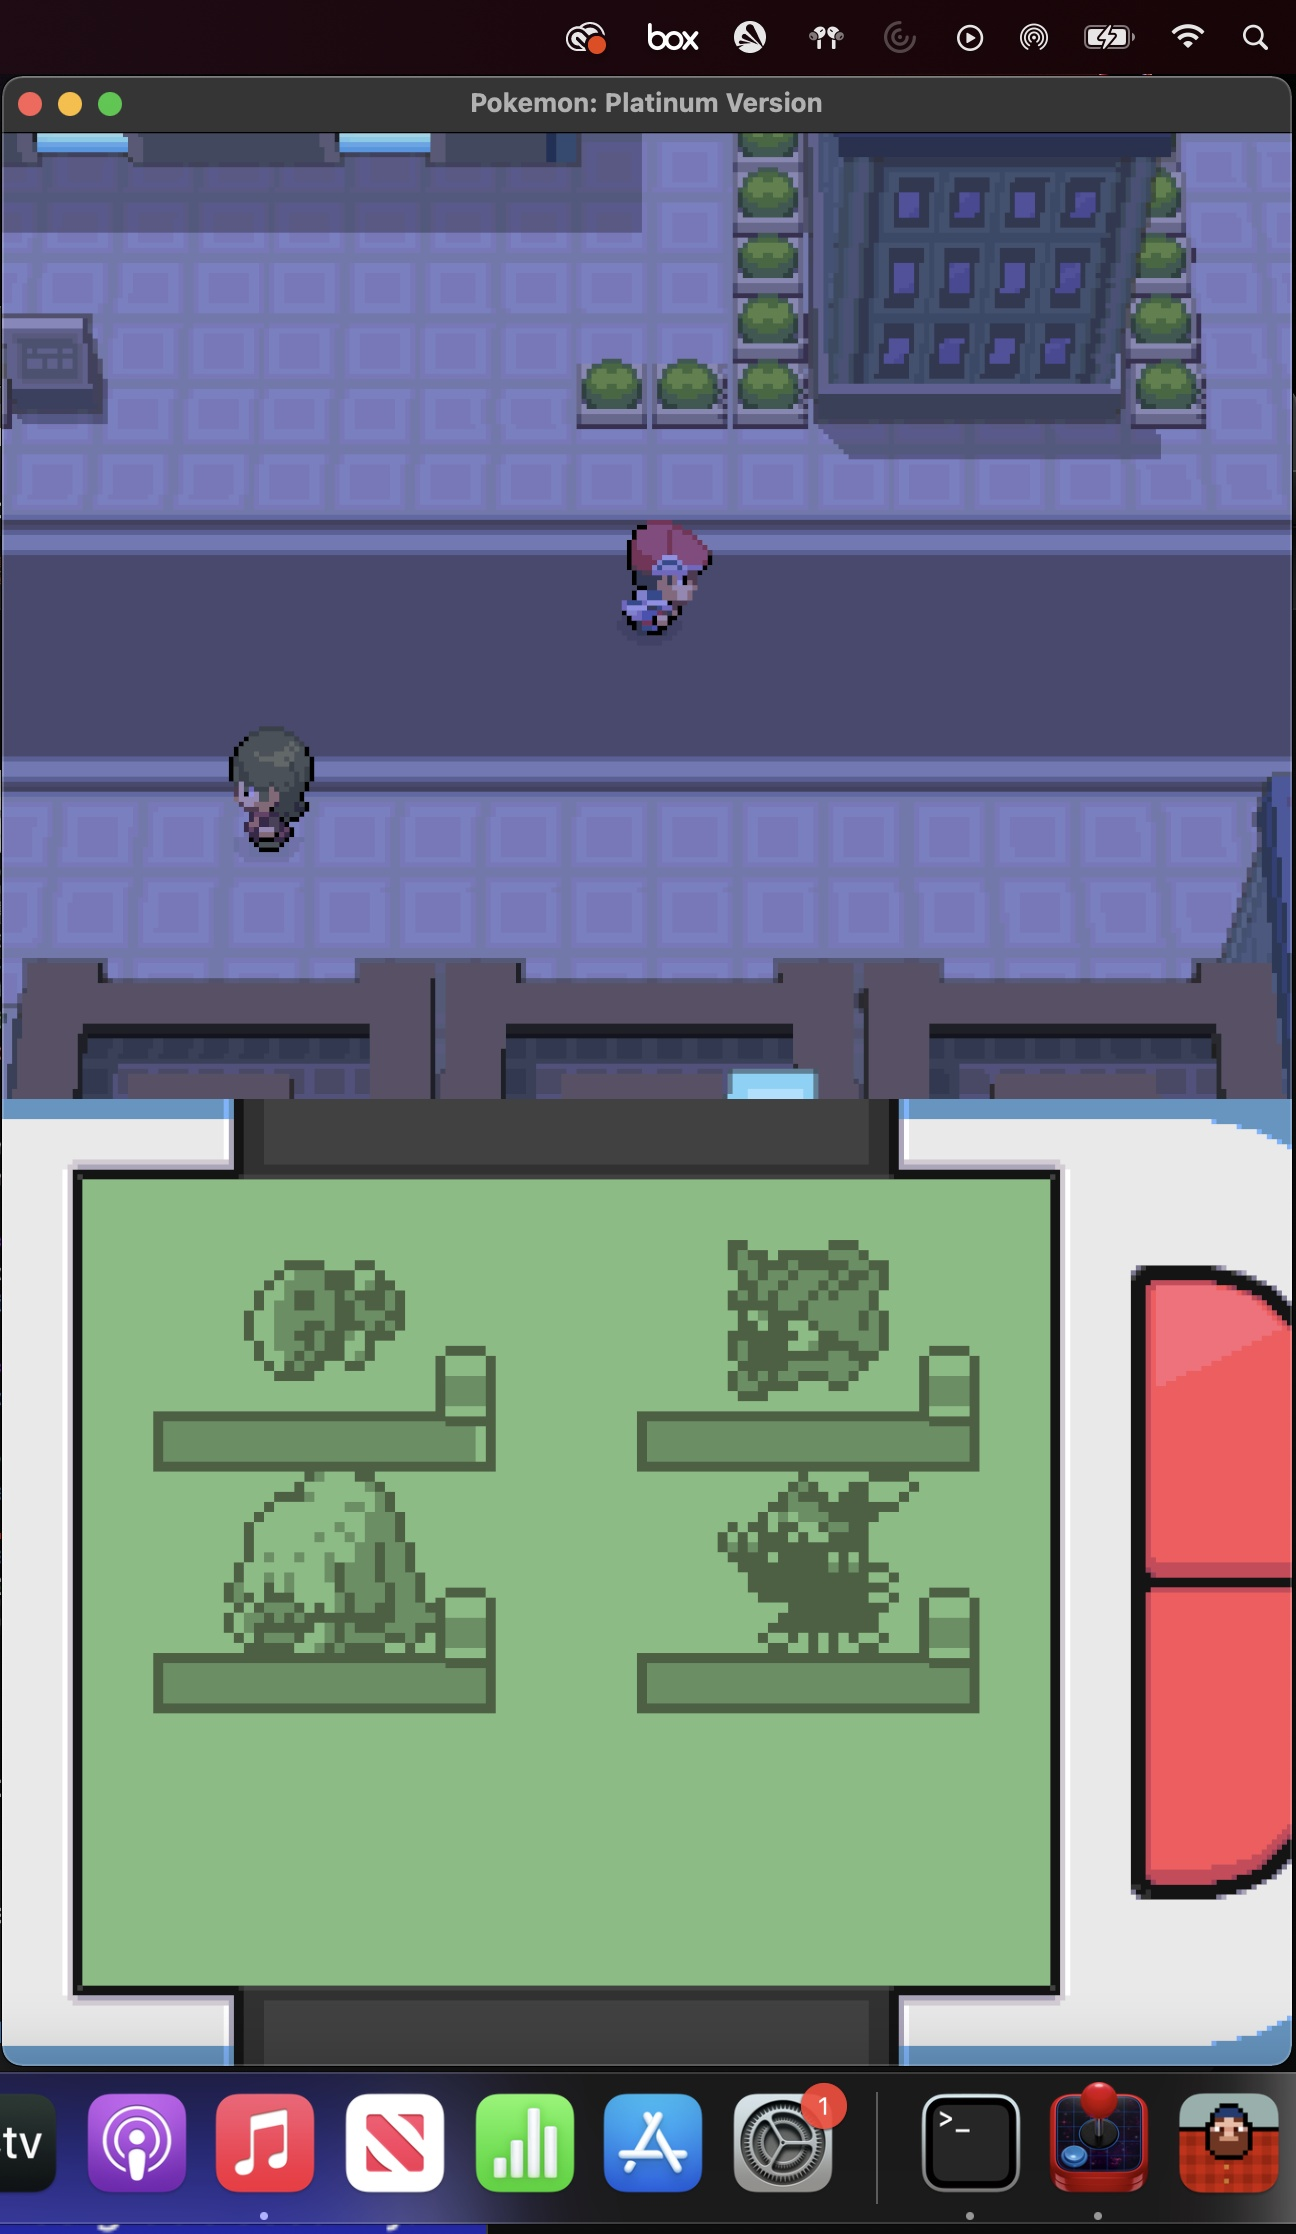player: (606, 515, 719, 651)
